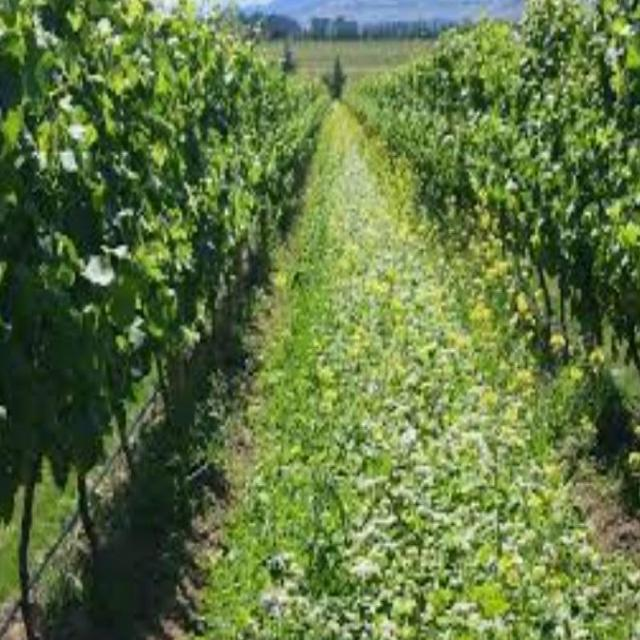row: (62, 100, 640, 640)
